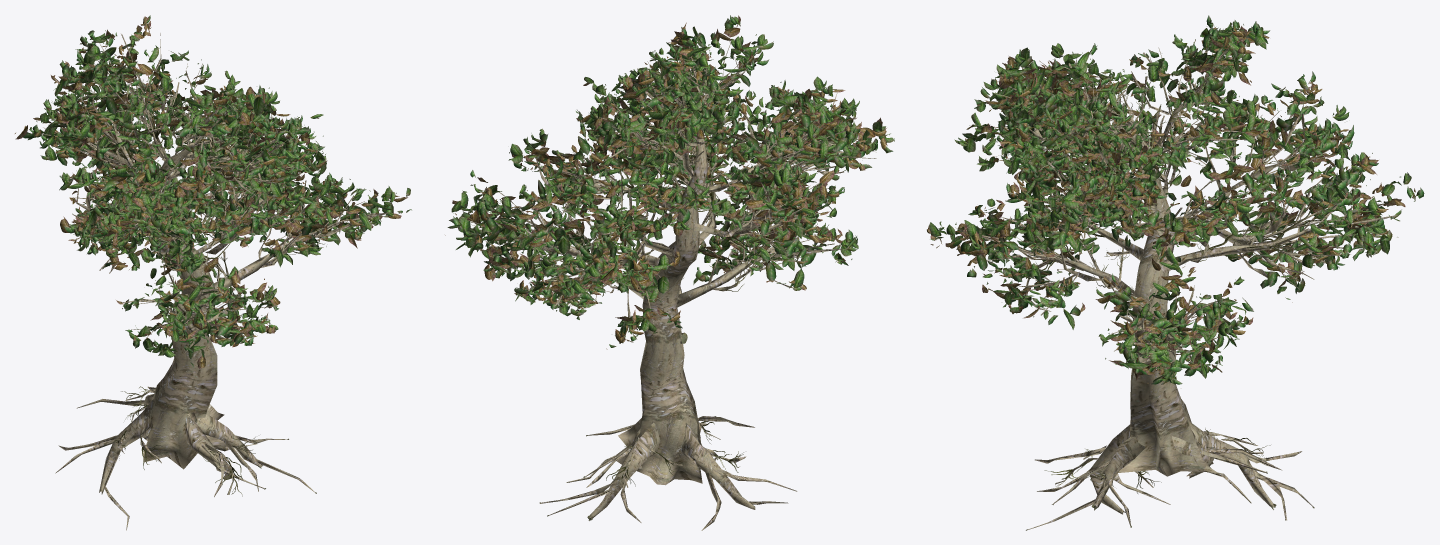
File: kingsville_wood.gltf
3 renders of one model, left to right at view 1: azimuth 30°, elevation 25°; view 2: azimuth 150°, elevation 25°; view 3: azimuth 270°, elevation 25°, orthographic. The views are drawn at different scales.
Visible parts, largest first — view 1: Kingsville wood; view 2: Kingsville wood; view 3: Kingsville wood.
Boxes of the visible parts, x1,y1,x2,y2 form: Kingsville wood: [15, 15, 411, 530]; Kingsville wood: [445, 15, 894, 530]; Kingsville wood: [927, 15, 1424, 530].
Size of the model in its own units: 3.84 by 4.43 by 4.2.
4 materials, 4 textured.
